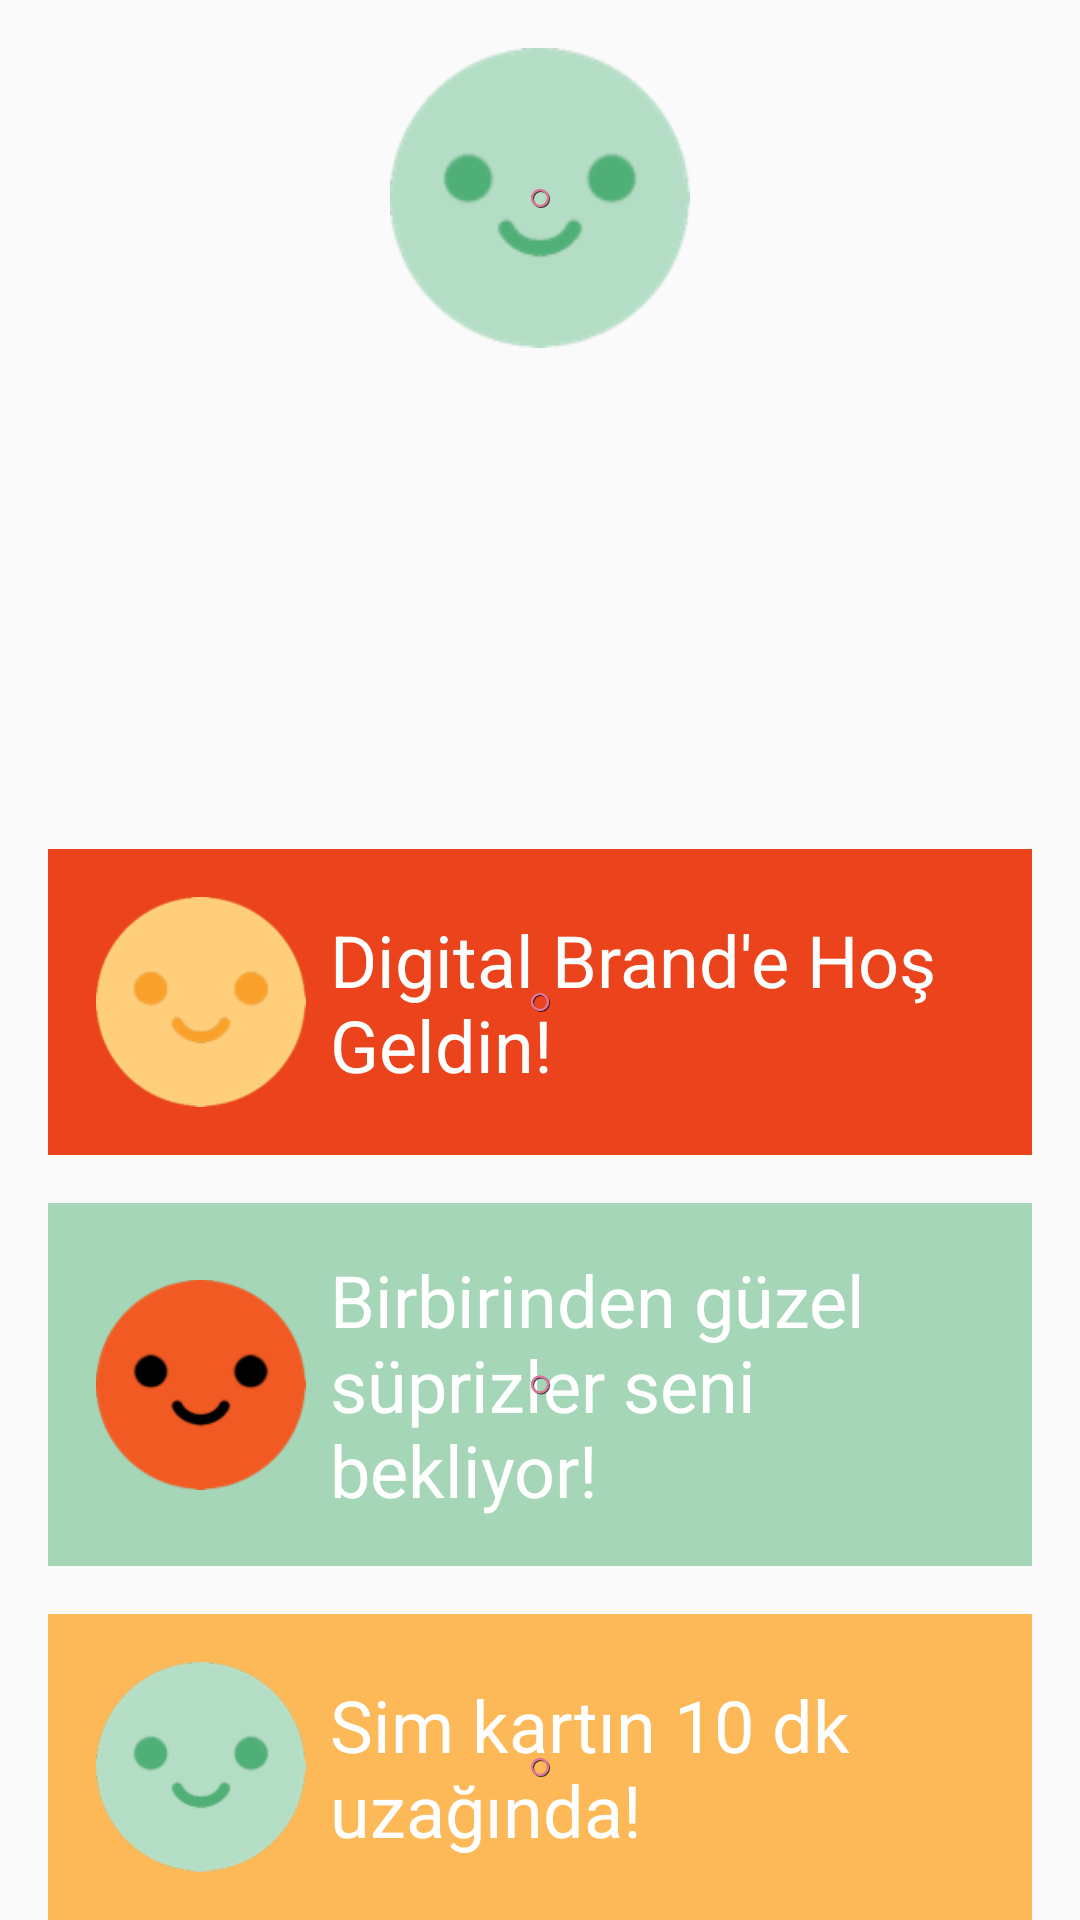

Icons on this 1080w x 1920h Android screen, each with the point to tap as (x,y):
turuncu: (201,1385)
yesil: (540,198), (201,1767)
